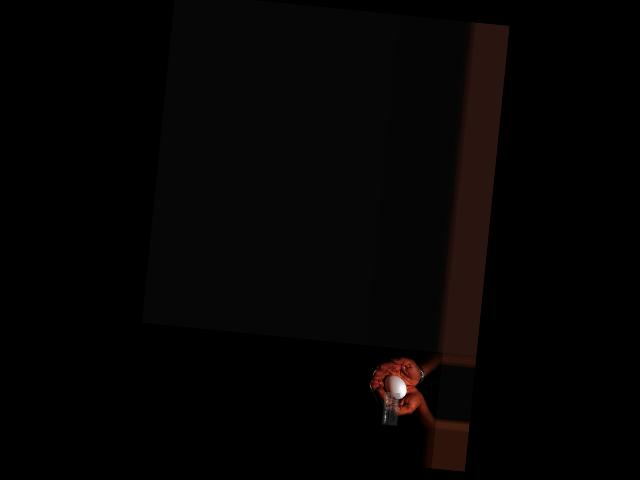egg: (382, 373, 407, 399)
